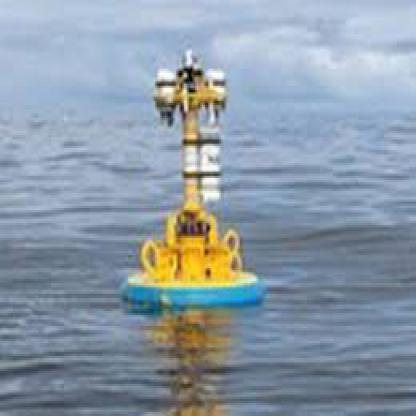buoy: (110, 41, 269, 315)
